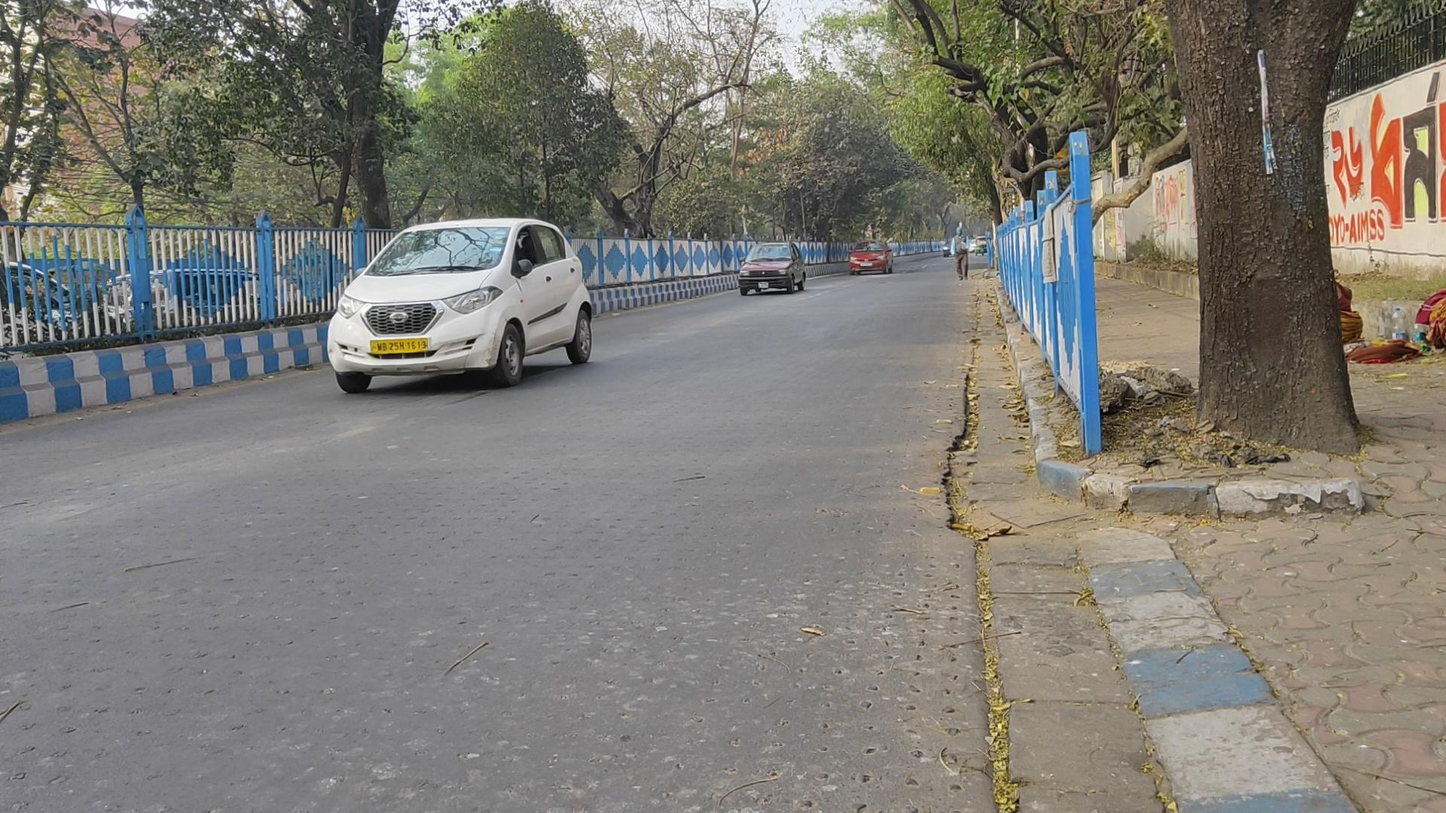Auto: (975, 236, 987, 256)
car: (325, 216, 590, 394), (736, 242, 808, 298), (847, 239, 893, 279)
